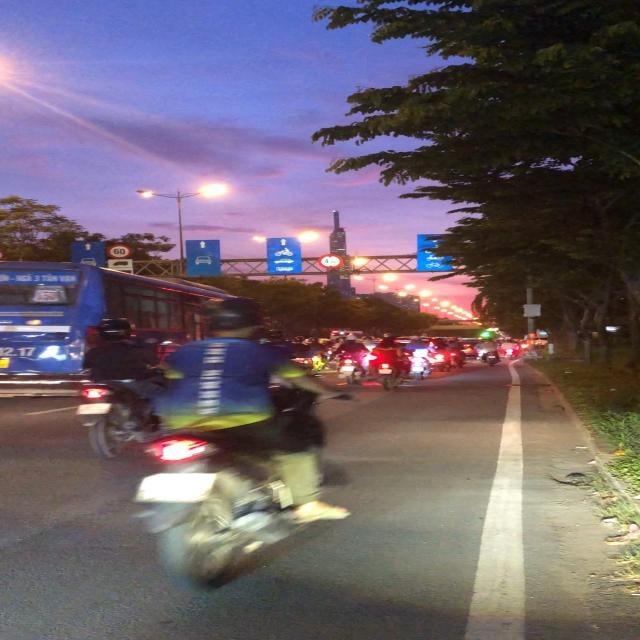Bien bao han che chieu cao: (314, 252, 345, 270)
Bien bao toc do toi da cho phep: (103, 242, 134, 260)
